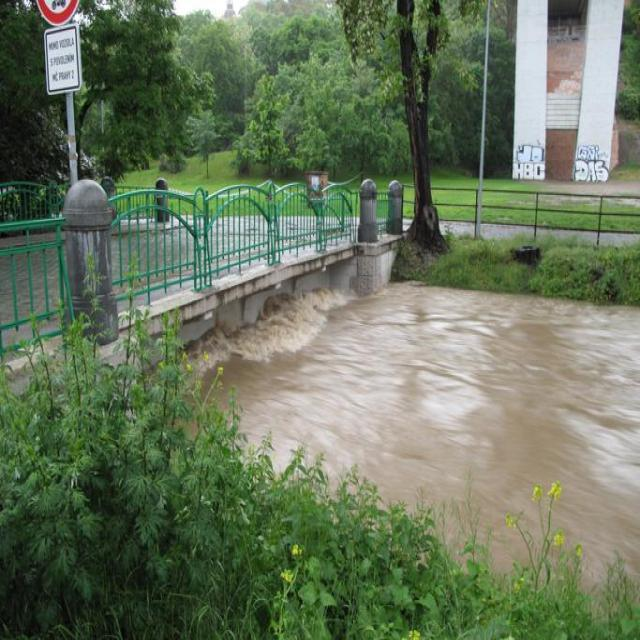flood: (199, 222, 640, 612)
